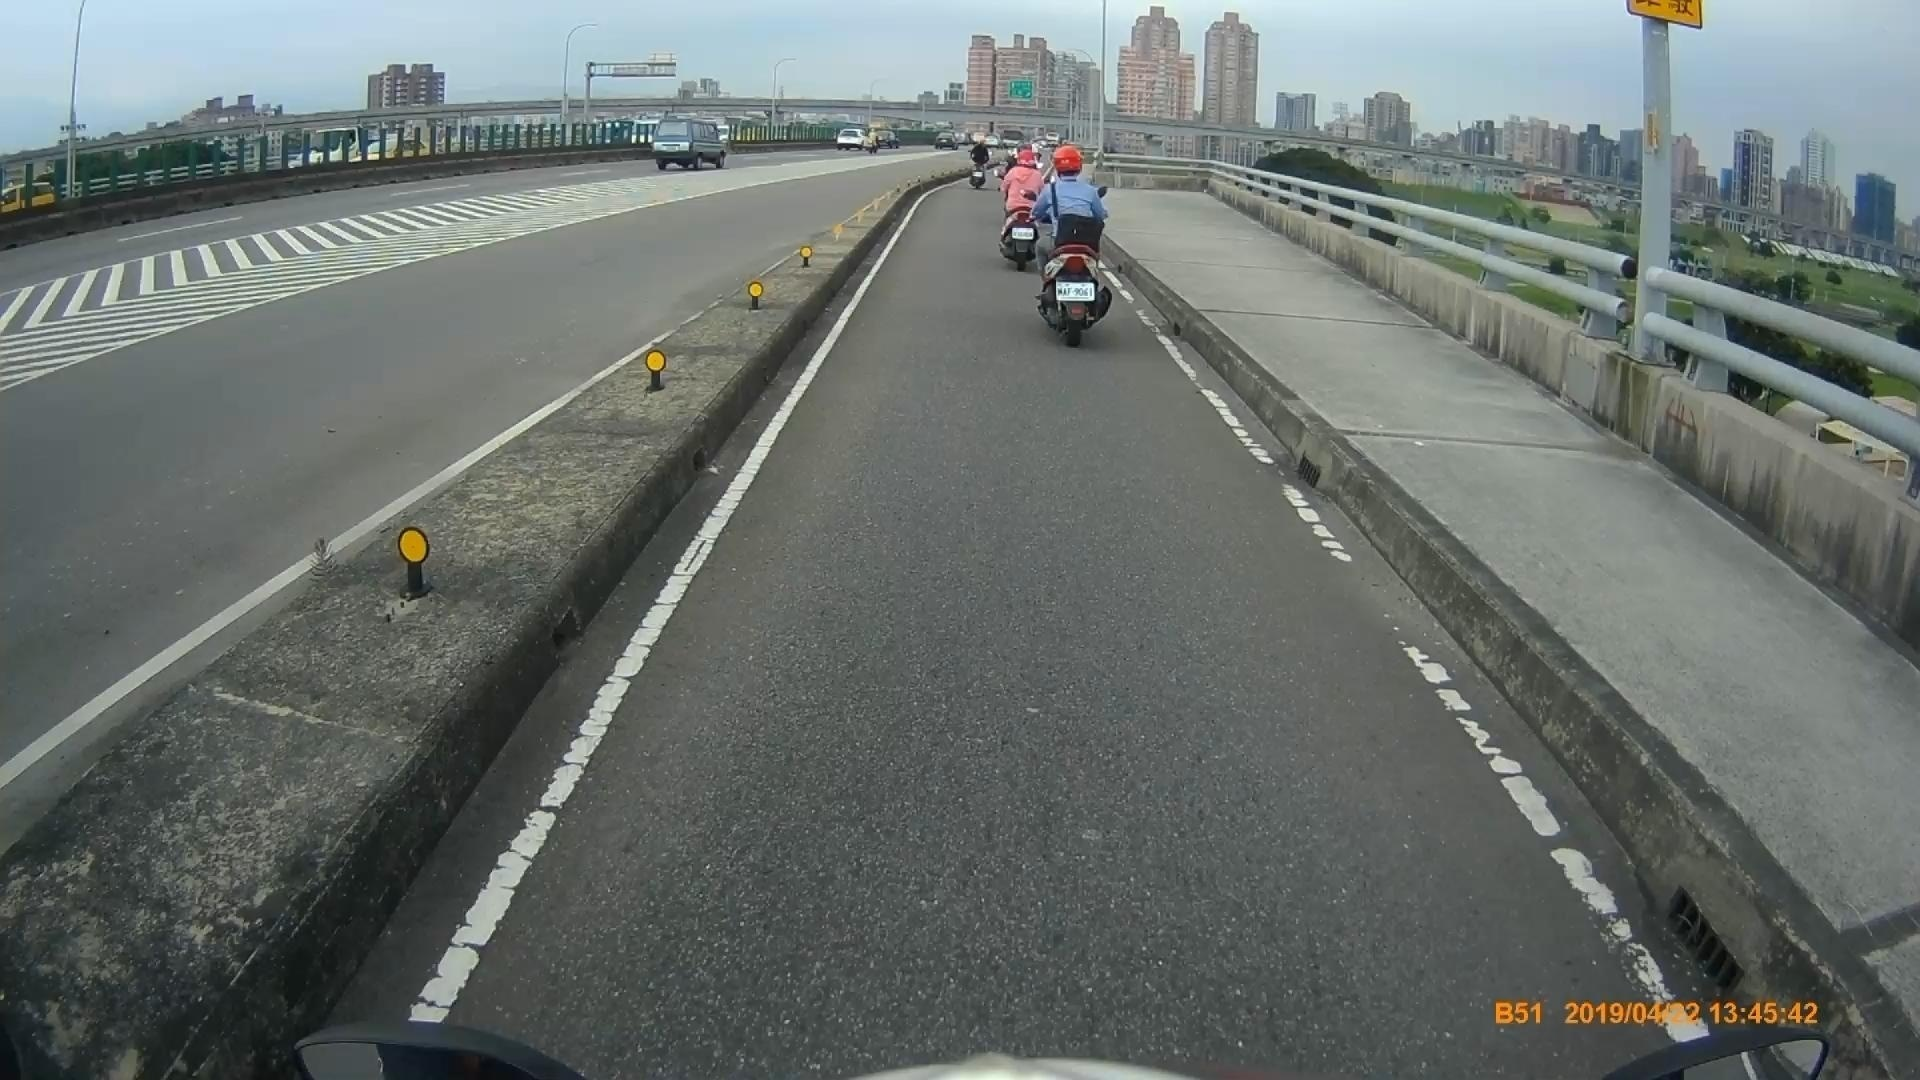License_plate: (1054, 279, 1096, 304)
